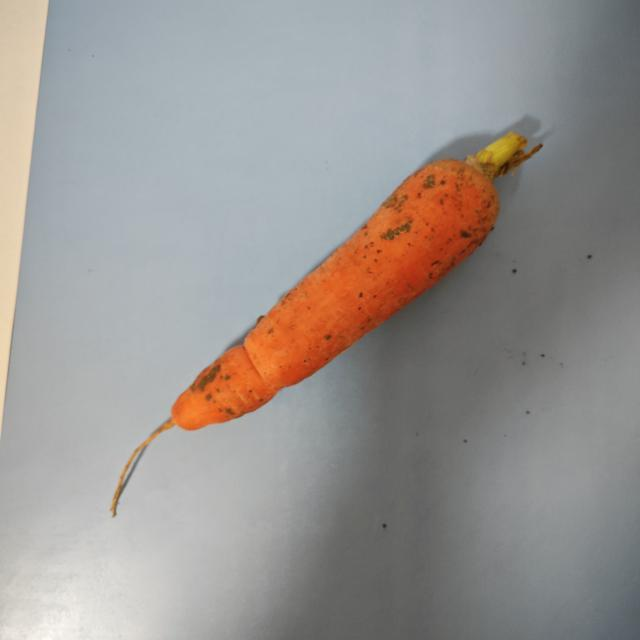-Kitchen waste - carrot-: (109, 135, 542, 515)
